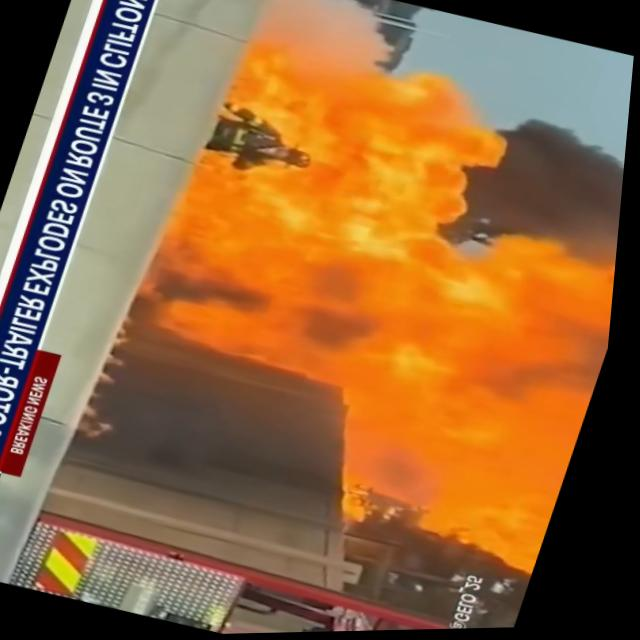Fire: (99, 24, 638, 539)
